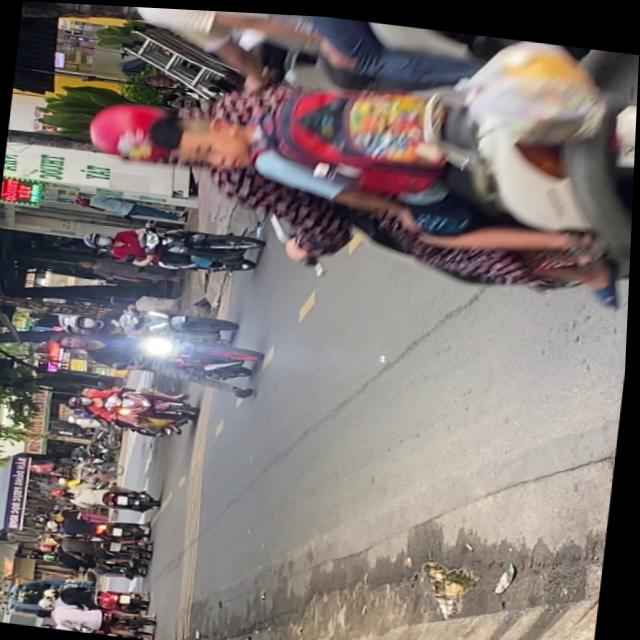helmet: (83, 93, 184, 168), (40, 2, 134, 17), (82, 228, 115, 248)
licenseplate: (63, 3, 640, 309), (27, 1, 640, 125), (46, 313, 273, 402), (79, 210, 266, 279)
motorcyclist: (150, 100, 261, 177), (53, 330, 91, 352)
